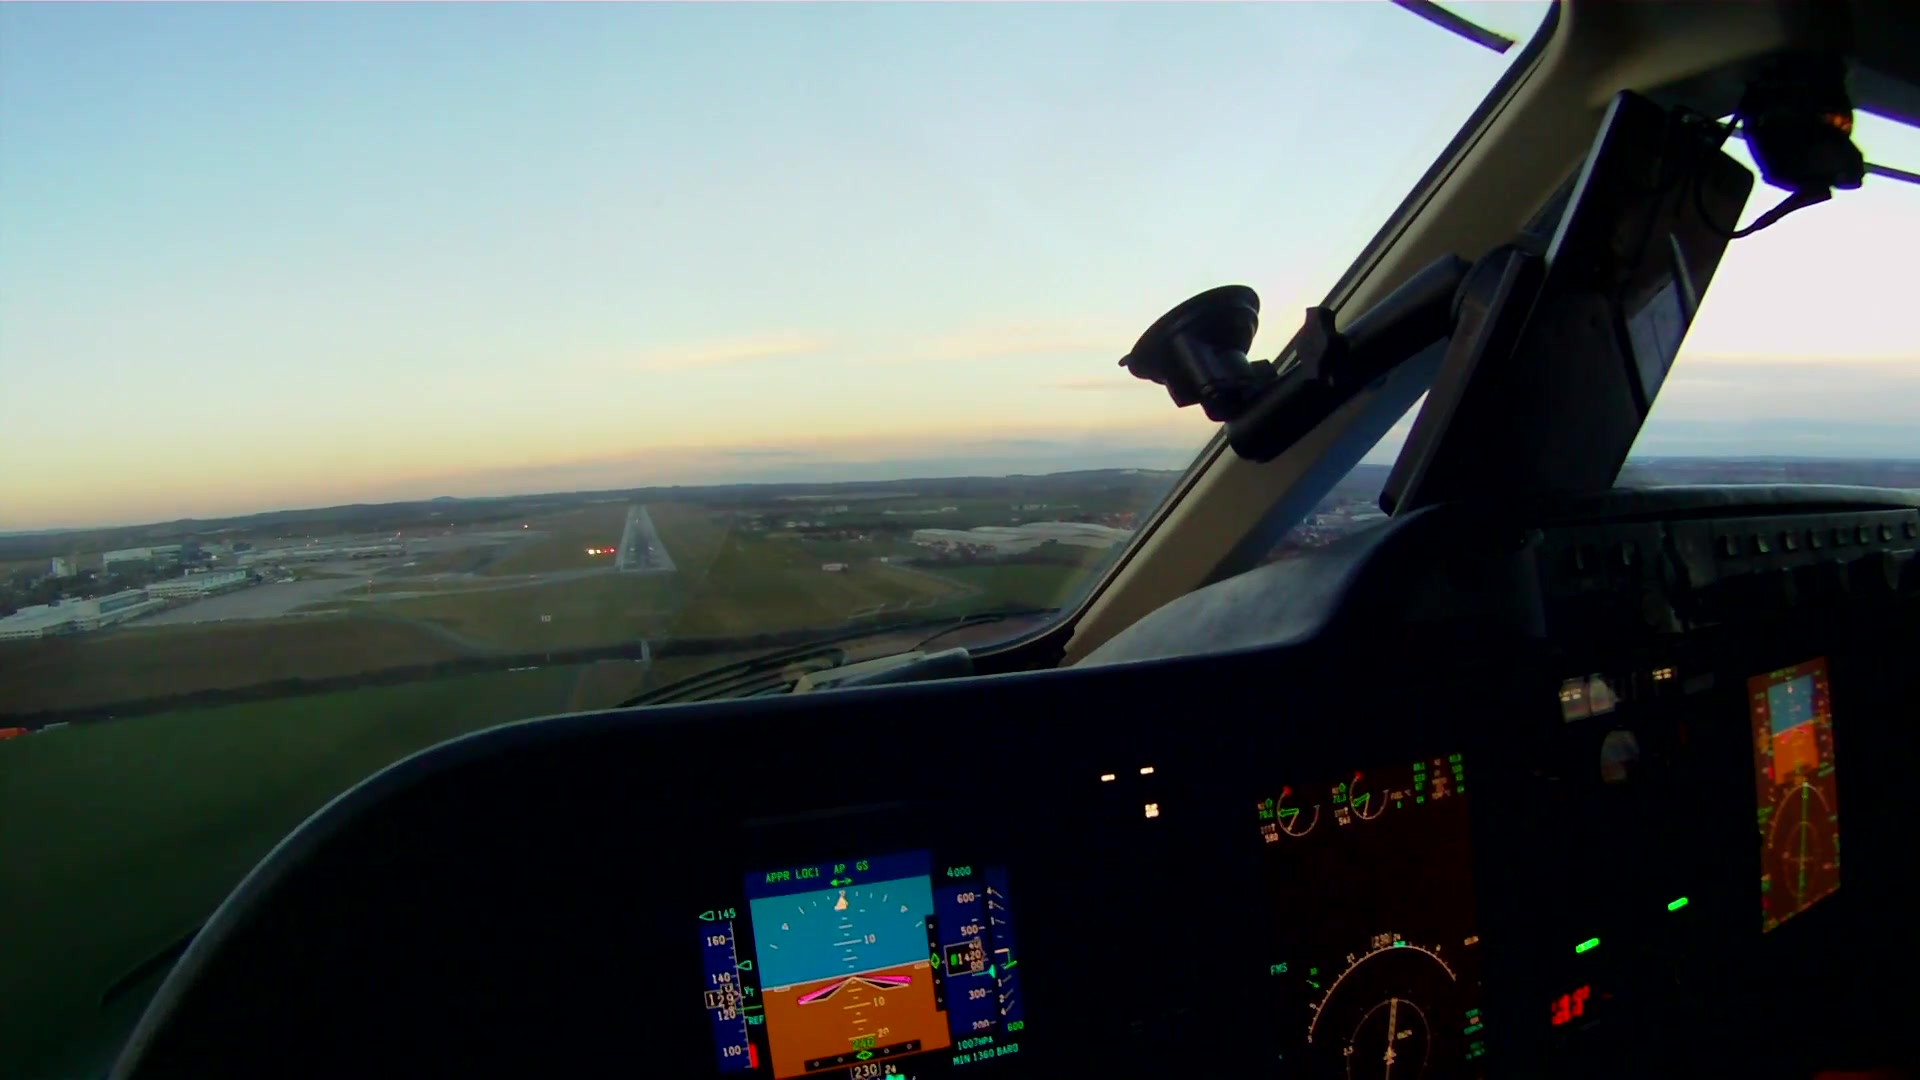runway: (616, 506, 675, 574)
